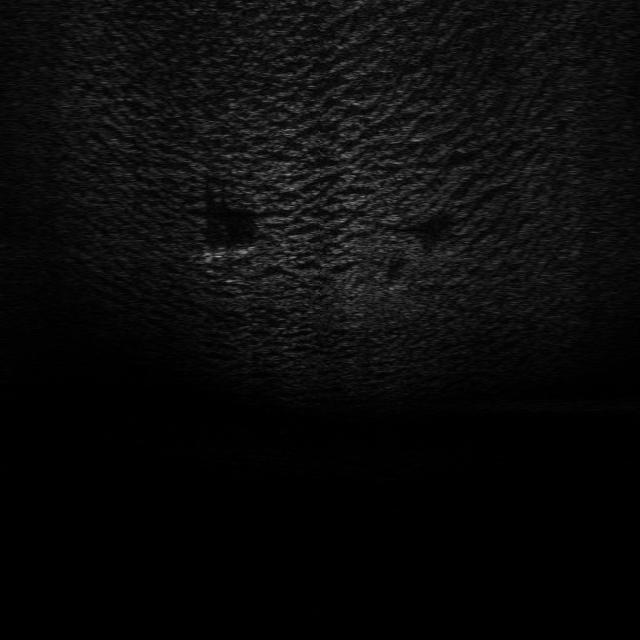plane: (193, 240, 261, 266)
